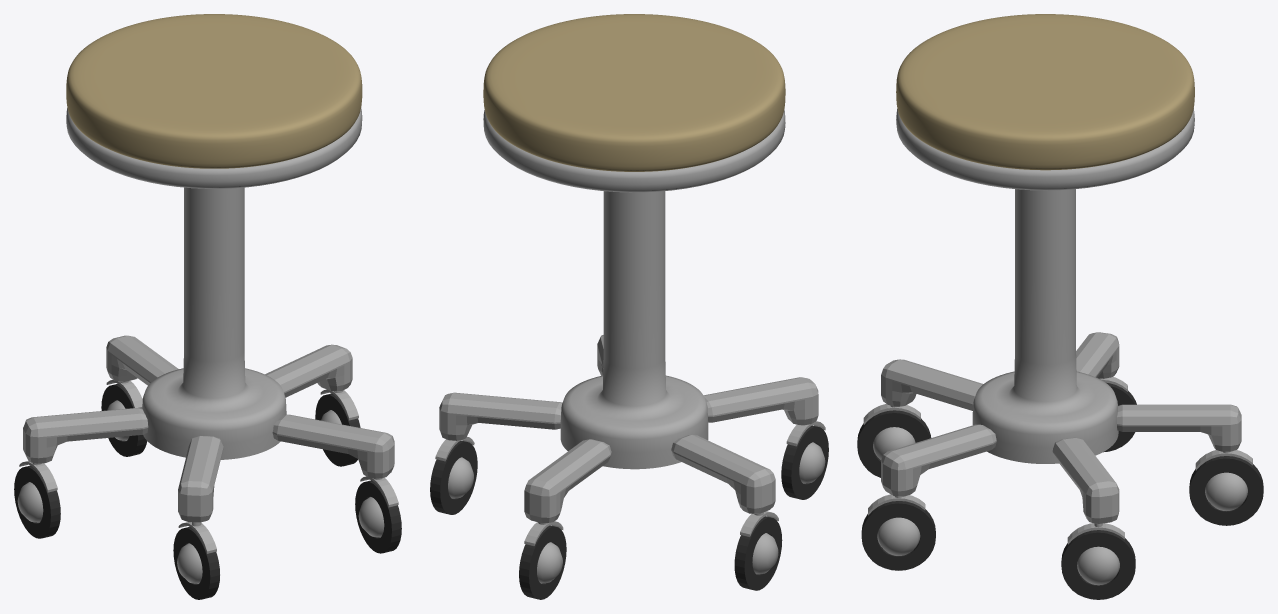
The model's file is lab_chair.glb.
3 views of the same model, side by side, from view 1: azimuth 30°, elevation 25°; view 2: azimuth 150°, elevation 25°; view 3: azimuth 270°, elevation 25° (orthographic). The views are drawn at different scales.
Parts seen in each view (by area): view 1: Circle.001, Circle, Cube, Circle.010, Circle.008, Circle.006, Circle.002, Circle.004, Sphere.004, Sphere.003, Sphere.002; view 2: Circle.001, Circle, Cube, Circle.002, Circle.008, Circle.004, Circle.010, Sphere.004, Sphere.001, Sphere, Sphere.003; view 3: Circle.001, Circle, Cube, Circle.002, Circle.004, Circle.006, Circle.008, Sphere.002, Sphere.001, Sphere, Sphere.003, Circle.010.
Boxes of the visible parts, x1,y1,x2,y2 form: Circle.001: [66, 14, 362, 168]; Circle: [66, 107, 362, 459]; Cube: [23, 335, 394, 522]; Circle.010: [14, 465, 60, 538]; Circle.008: [173, 527, 219, 599]; Circle.006: [355, 480, 401, 553]; Circle.002: [101, 384, 147, 456]; Circle.004: [315, 393, 360, 466]; Sphere.004: [17, 482, 43, 522]; Sphere.003: [177, 543, 202, 583]; Sphere.002: [358, 497, 384, 537]; Circle.001: [483, 14, 785, 171]; Circle: [483, 110, 785, 469]; Cube: [439, 335, 818, 523]; Circle.002: [519, 525, 566, 599]; Circle.008: [781, 425, 828, 499]; Circle.004: [430, 440, 477, 514]; Circle.010: [734, 516, 782, 590]; Sphere.004: [752, 533, 778, 574]; Sphere.001: [448, 457, 473, 498]; Sphere: [537, 542, 562, 583]; Sphere.003: [799, 442, 825, 483]; Circle.001: [896, 14, 1194, 170]; Circle: [896, 108, 1194, 463]; Cube: [881, 332, 1241, 523]; Circle.002: [1189, 456, 1263, 525]; Circle.004: [1061, 530, 1135, 599]; Circle.006: [861, 501, 935, 570]; Circle.008: [857, 410, 931, 477]; Sphere.002: [877, 517, 920, 555]; Sphere.001: [1077, 546, 1119, 585]; Sphere: [1205, 472, 1247, 510]; Sphere.003: [873, 427, 915, 460]; Circle.010: [1103, 382, 1136, 452].
Size of the model in its own units: 0.9728 by 1.25 by 1.02.
